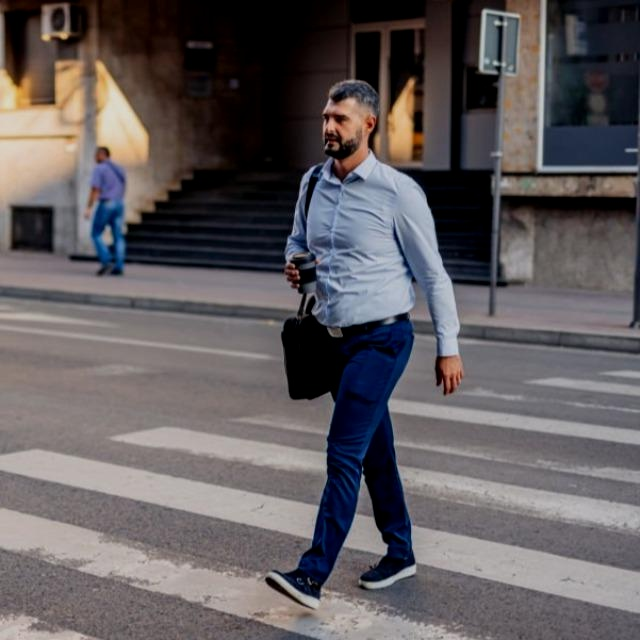Sin_Casco_Mascarrilla: (321, 79, 381, 161)
Sin_Chaleco: (297, 163, 418, 331)
